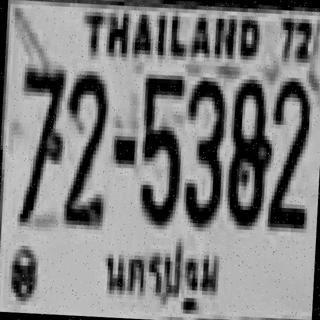N02: (60, 68, 109, 220), (265, 73, 312, 229), (264, 73, 310, 217)
N03: (180, 76, 226, 225)
N05: (136, 70, 183, 222)
N07: (15, 64, 64, 224)
N08: (224, 75, 273, 223)
P28: (96, 233, 225, 318)
